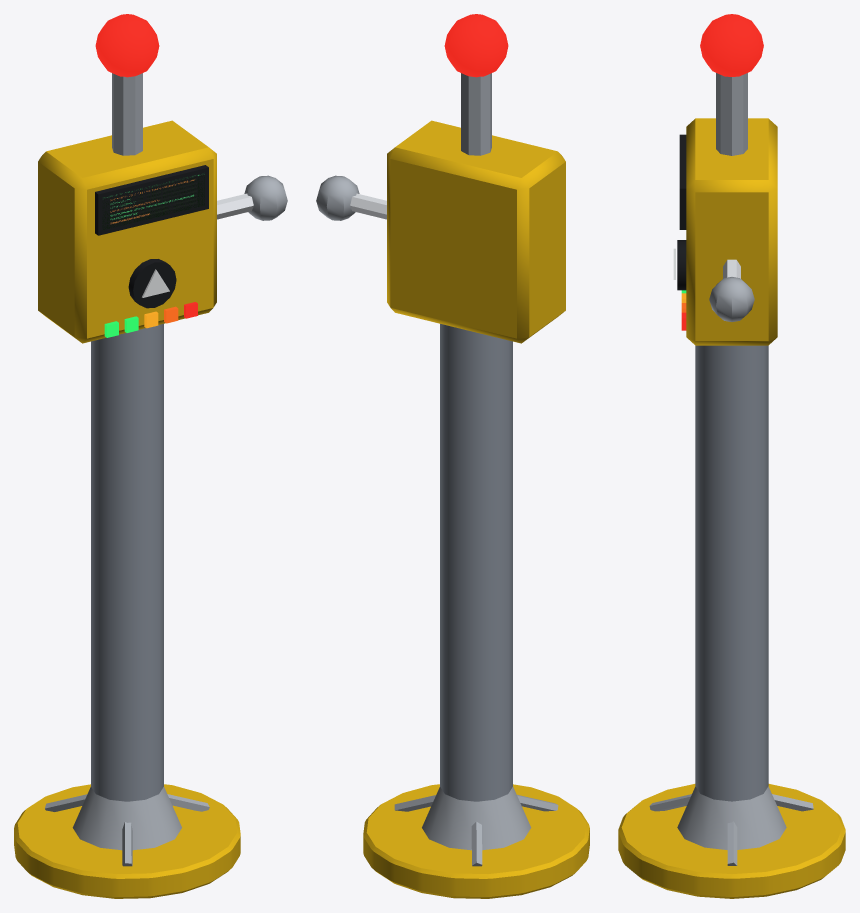
File: sciinstrument_radiation_monitor_post.glb
The picture shows the model from 3 angles, left to right: view 1: azimuth 30°, elevation 25°; view 2: azimuth 150°, elevation 25°; view 3: azimuth 270°, elevation 25°; orthographic projection.
Parts seen in each view (by area): view 1: sciinstrument_radiation_monitor_post; view 2: sciinstrument_radiation_monitor_post; view 3: sciinstrument_radiation_monitor_post.
Part boxes in pixels (x1,y1,x2,y2): sciinstrument_radiation_monitor_post: [14, 14, 287, 898]; sciinstrument_radiation_monitor_post: [316, 14, 589, 898]; sciinstrument_radiation_monitor_post: [618, 14, 845, 898].
Bounding box in the file's own units: 0.6487 × 2.02 × 0.4975.
Materials: 11 (1 with a texture image).
